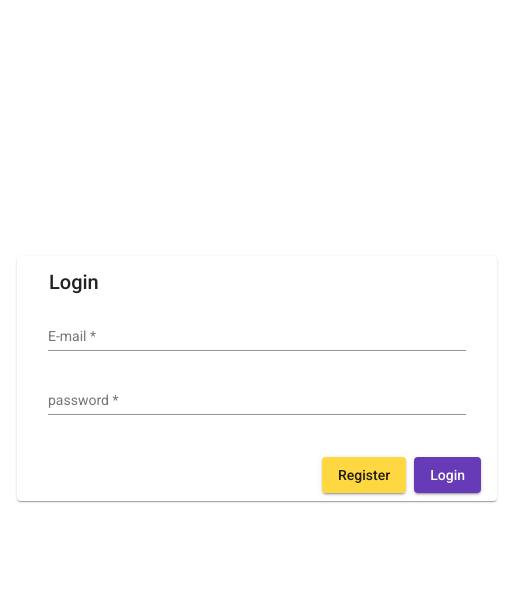
Test case: Authentication module › Display error on register user
The image size is (515, 616).
Click the button "Register" at (364, 475), box x1=322 y1=457 x2=406 y2=493
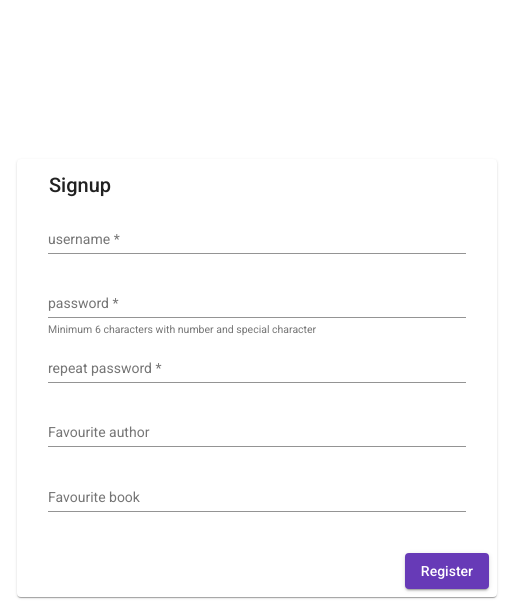
Type "admin@test.com" into the field with id "username" at (257, 240), box x1=48 y1=232 x2=466 y2=248
Type "Adm!nistrat0r" into the password field labelled "password *" at (257, 304), box x1=48 y1=296 x2=466 y2=312
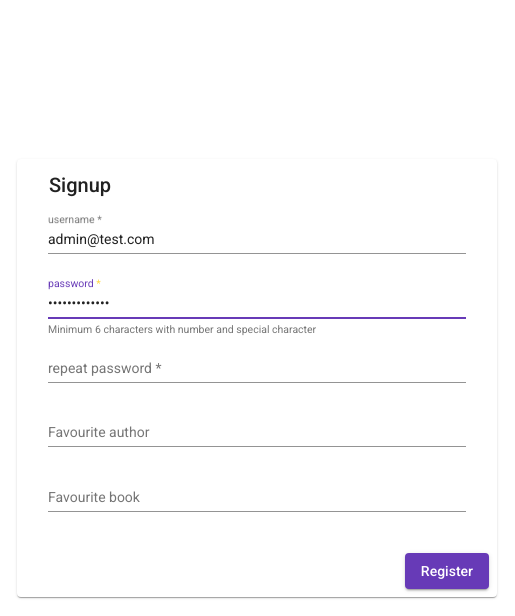
Type "Adm!nistrat0r" into the password field with id "repeatPassword" at (257, 369), box x1=48 y1=361 x2=466 y2=377
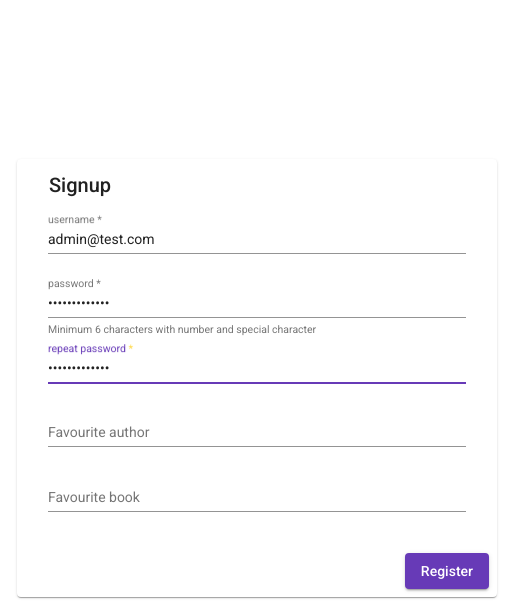
Type "J.K. Rowling" into the field with id "favouriteAuthor" at (257, 433), box x1=48 y1=425 x2=466 y2=441
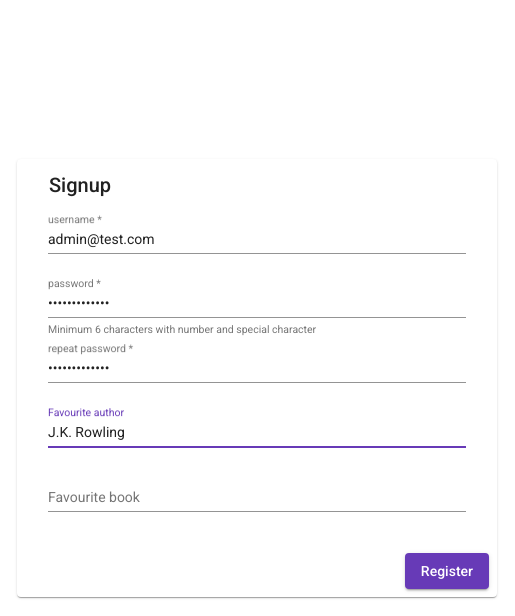
Type "Harry Potter and The Philosopher Stone" into the field with id "favouriteBook" at (257, 498), box x1=48 y1=490 x2=466 y2=506
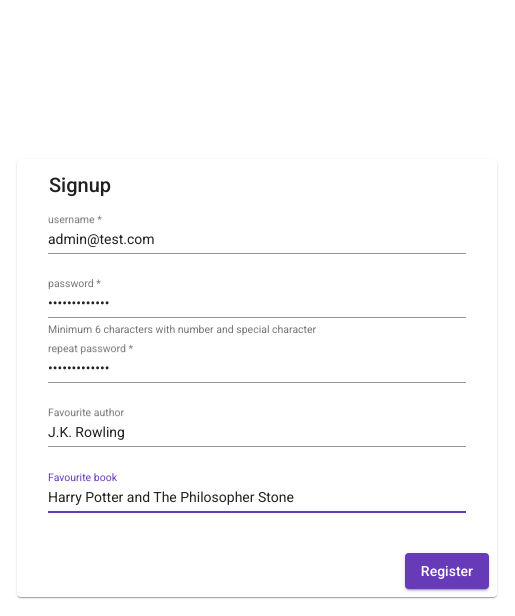
Click the submit button at (447, 571), box x1=405 y1=553 x2=489 y2=589
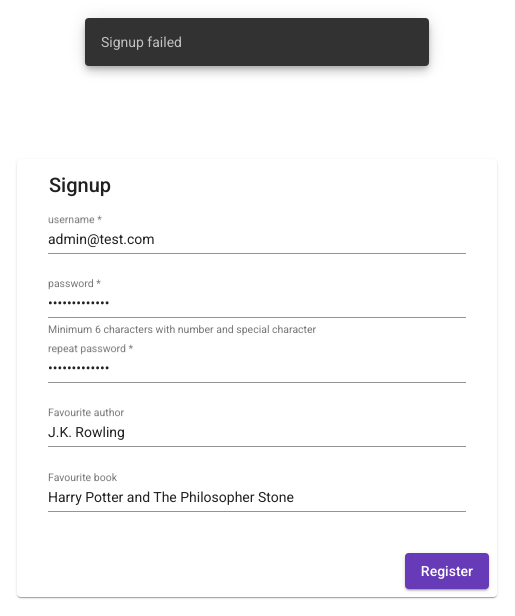
Result: the text "Signup failed" is shown at x1=101 y1=32 x2=182 y2=52
